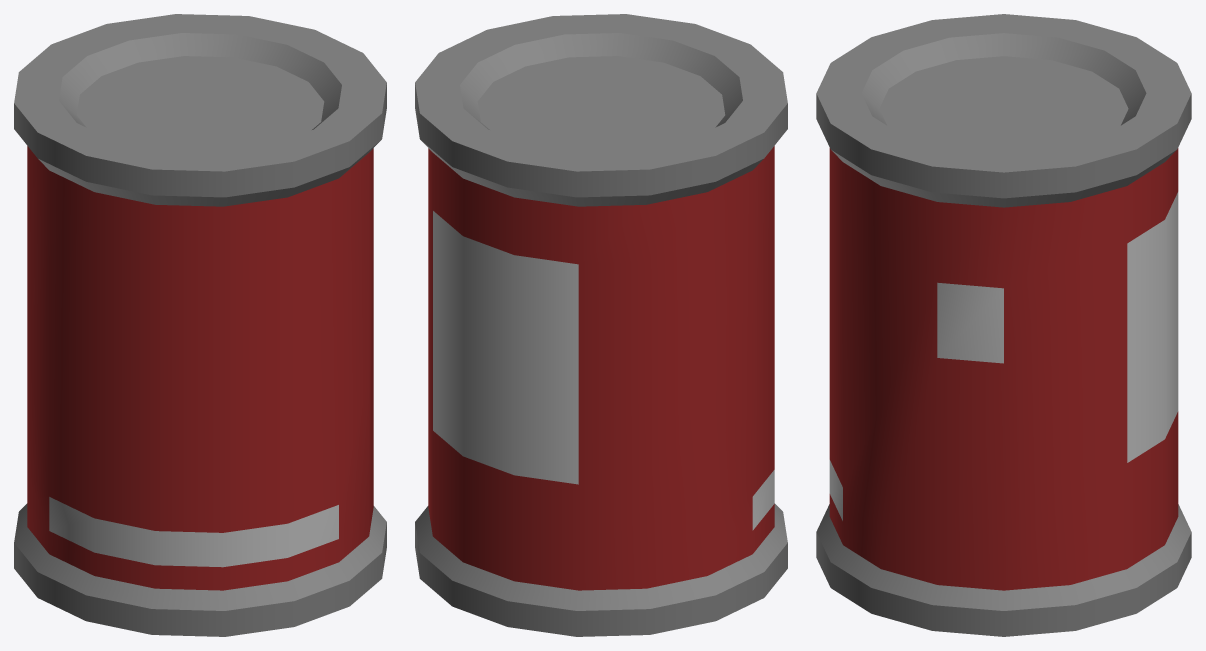
The model's file is Conserve_01.fbx.
3 renders of one model, left to right at view 1: azimuth 30°, elevation 25°; view 2: azimuth 150°, elevation 25°; view 3: azimuth 270°, elevation 25°, orthographic.
Visible parts, largest first — view 1: Conserve_01; view 2: Conserve_01; view 3: Conserve_01.
Boxes of the visible parts, <box> form: Conserve_01: <box>14,14,386,636</box>; Conserve_01: <box>415,14,787,636</box>; Conserve_01: <box>816,14,1191,636</box>.
Size of the model in its own units: 31.38 by 42.85 by 31.38.
